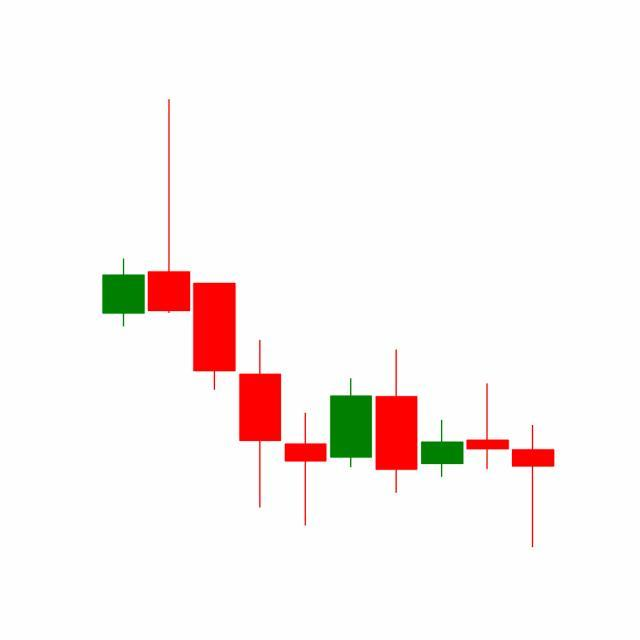Hikkake Pattern: (283, 349, 512, 529)
